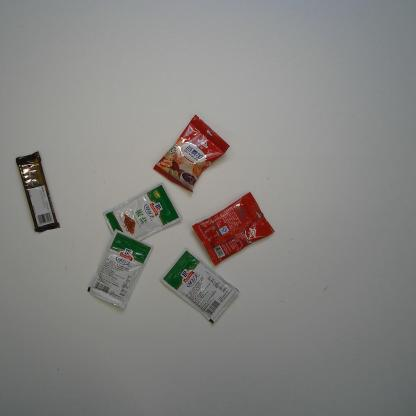Chocolate: (15, 150, 60, 233)
Instant Drink: (152, 114, 231, 194), (190, 191, 274, 266)
Seasoner: (159, 246, 240, 324), (86, 228, 154, 310), (101, 181, 183, 242)
